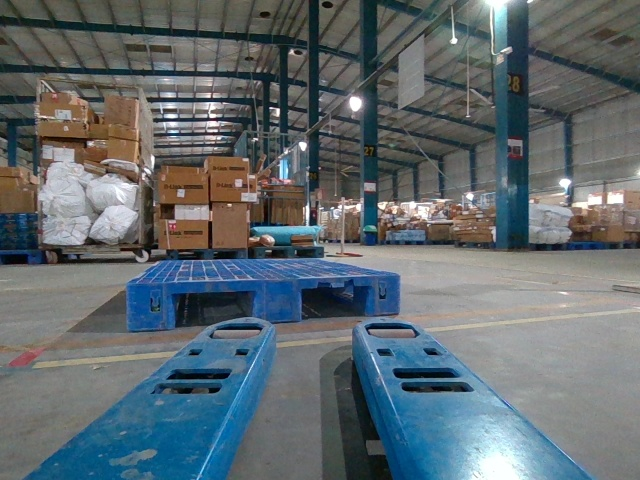block: (123, 281, 175, 330), (250, 277, 302, 323), (371, 272, 401, 315)
front: (124, 274, 397, 330)
hole pallet: (173, 286, 255, 331), (298, 285, 374, 323)
